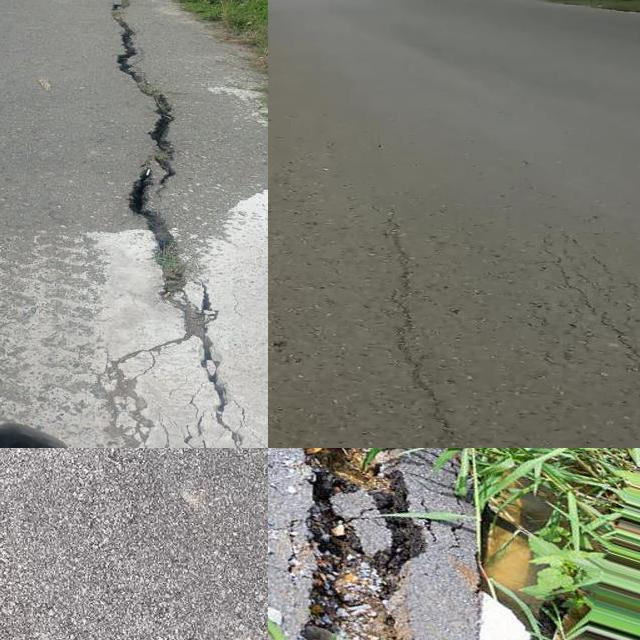Memanjang: (67, 0, 268, 448)
Pinggir: (268, 448, 442, 640)
